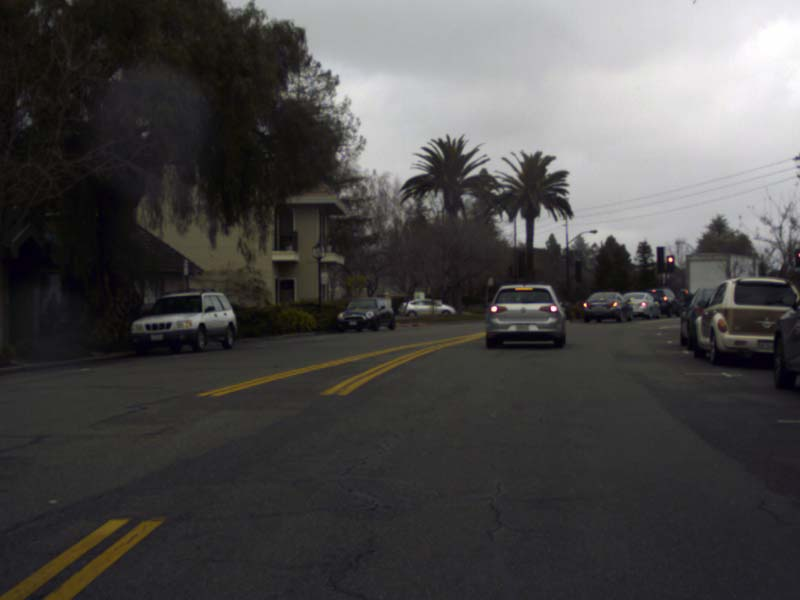Red: (666, 255, 674, 271)
